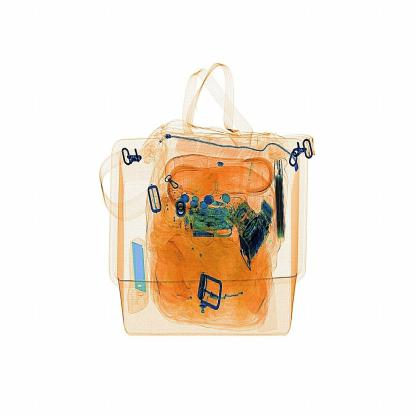pliers: (126, 236, 150, 310)
